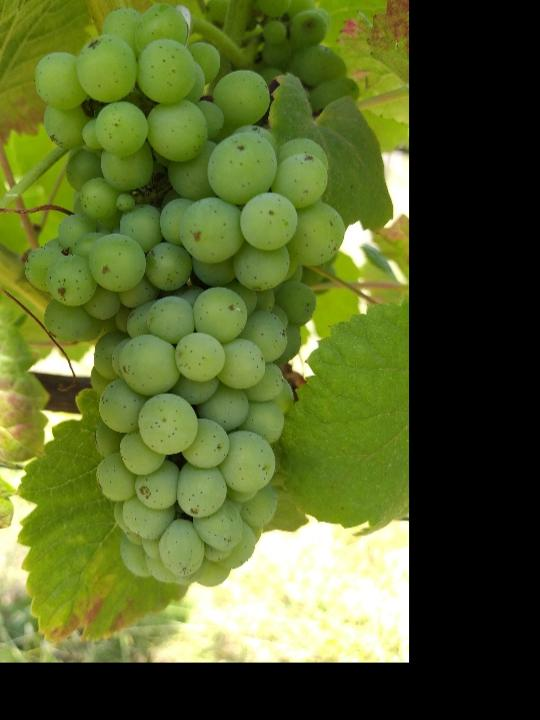grape: (18, 0, 346, 591)
